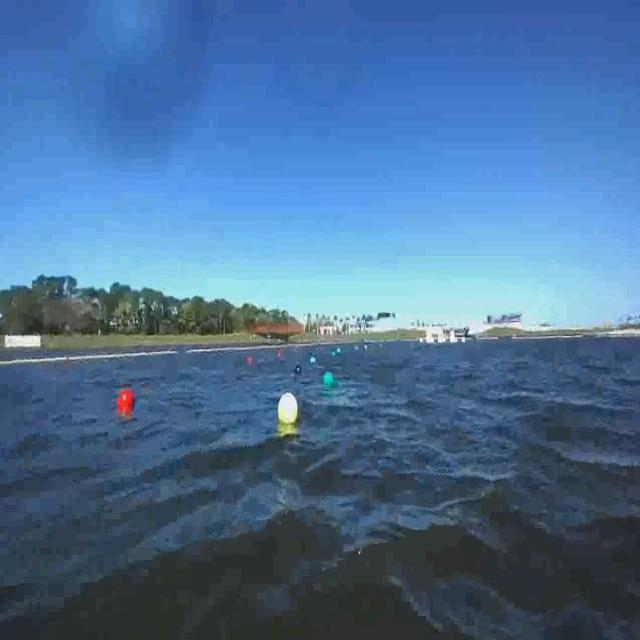black-buoy: (293, 363, 301, 375)
green-buoy: (325, 370, 338, 386)
red-buoy: (120, 389, 136, 411)
yellow-buoy: (277, 395, 298, 427)
